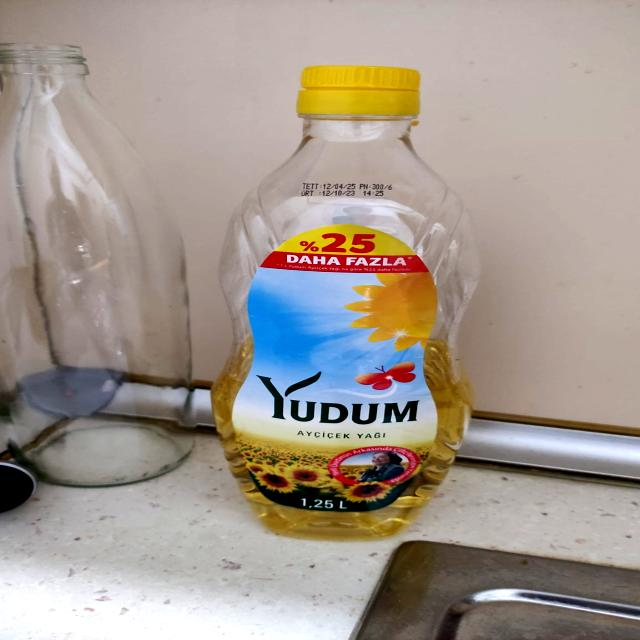olive oil: (189, 45, 505, 544)
